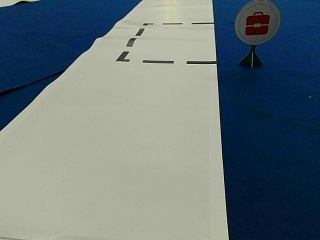company: (235, 1, 280, 43)
